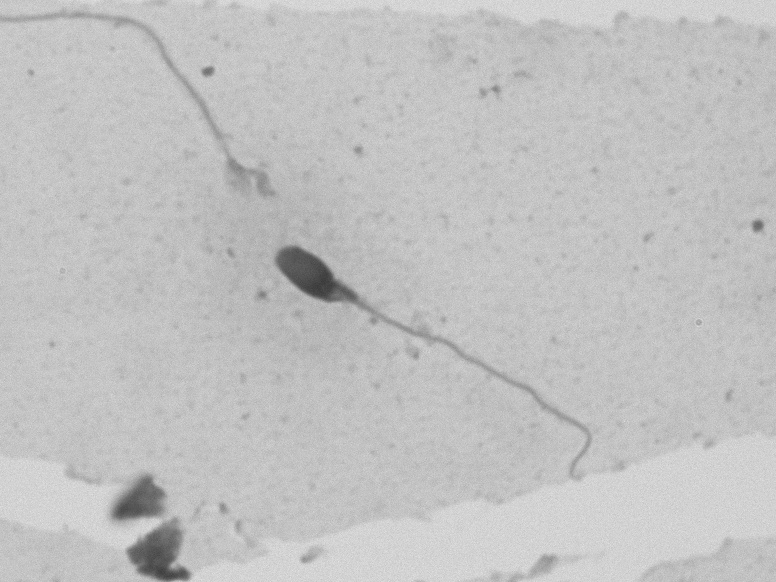Abnormal: (269, 215, 606, 472)
